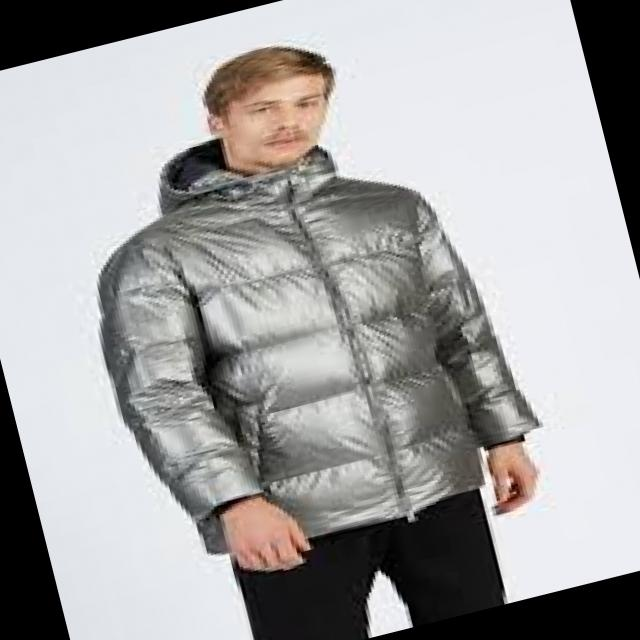Jacket: (48, 116, 596, 624)
